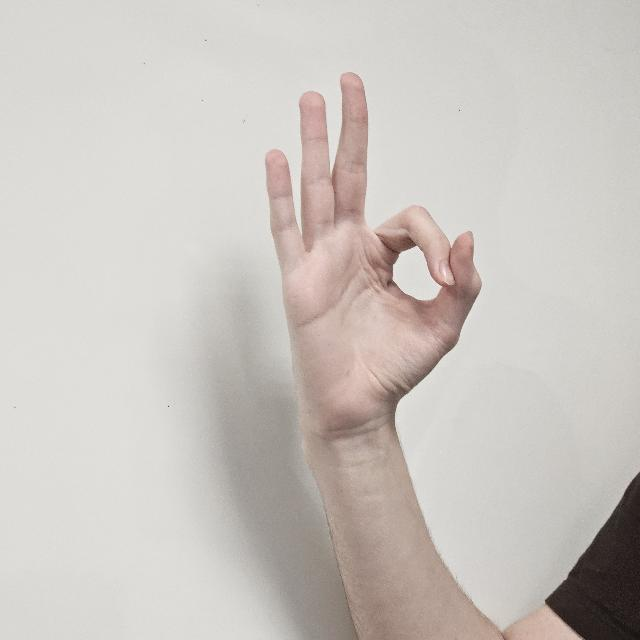Bolinha: (250, 67, 492, 439)
